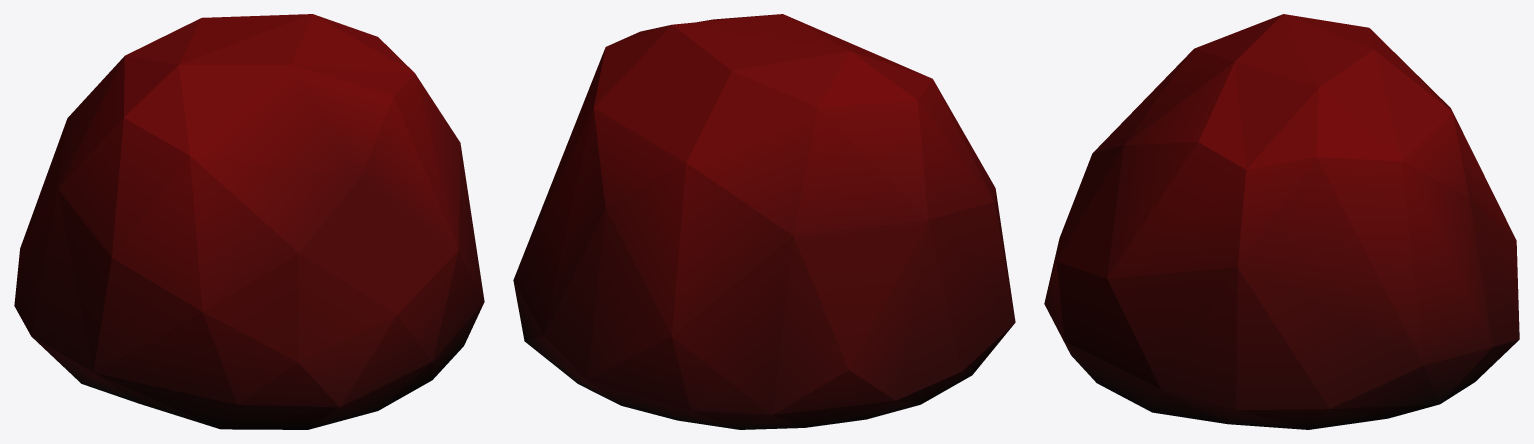
Rendered from BushBall.fbx.
The picture shows the model from 3 angles, left to right: view 1: azimuth 30°, elevation 25°; view 2: azimuth 150°, elevation 25°; view 3: azimuth 270°, elevation 25°; orthographic projection. The views are drawn at different scales.
Parts seen in each view (by area): view 1: Bush01; view 2: Bush01; view 3: Bush01.
Part boxes in pixels (x1=…): Bush01: x1=14, y1=14, x2=484, y2=429; Bush01: x1=513, y1=14, x2=1015, y2=429; Bush01: x1=1044, y1=14, x2=1519, y2=429.
Bounding box in the file's own units: 0.3284 × 0.2295 × 0.3291.
